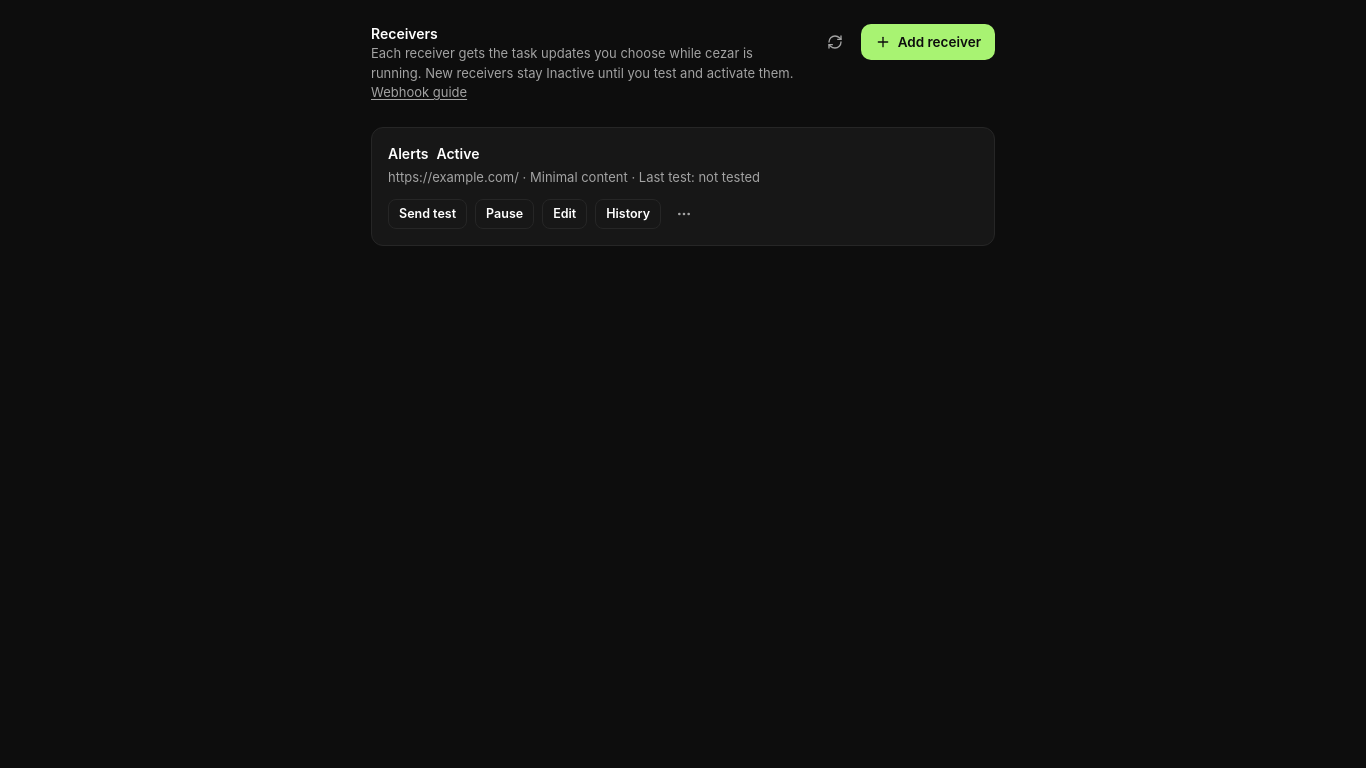
Test: test acceptance preserves a later Add draft
The width and height of the screenshot is (1366, 768).
Click the button "Send test" at (428, 214), box [388,199,467,229]
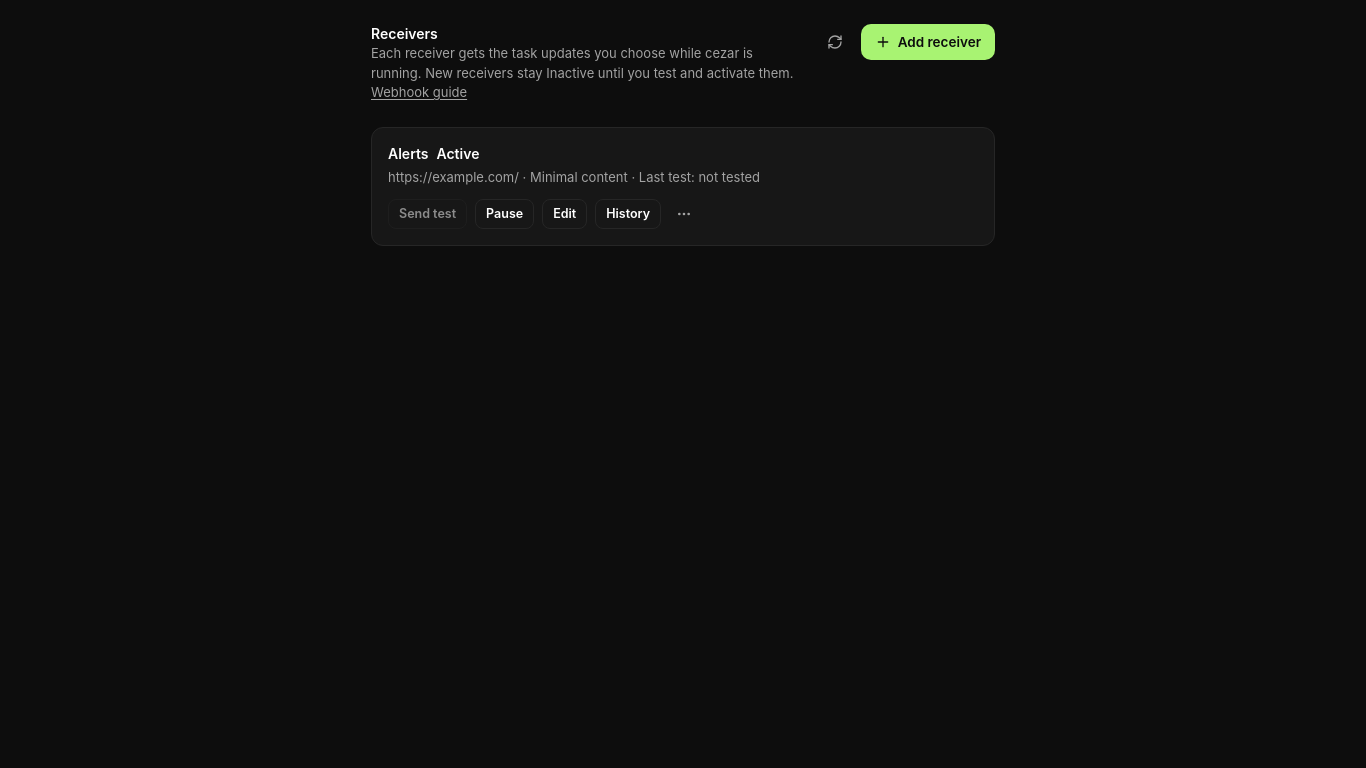
Click the button "Add receiver" at (928, 42), box [861,24,995,60]
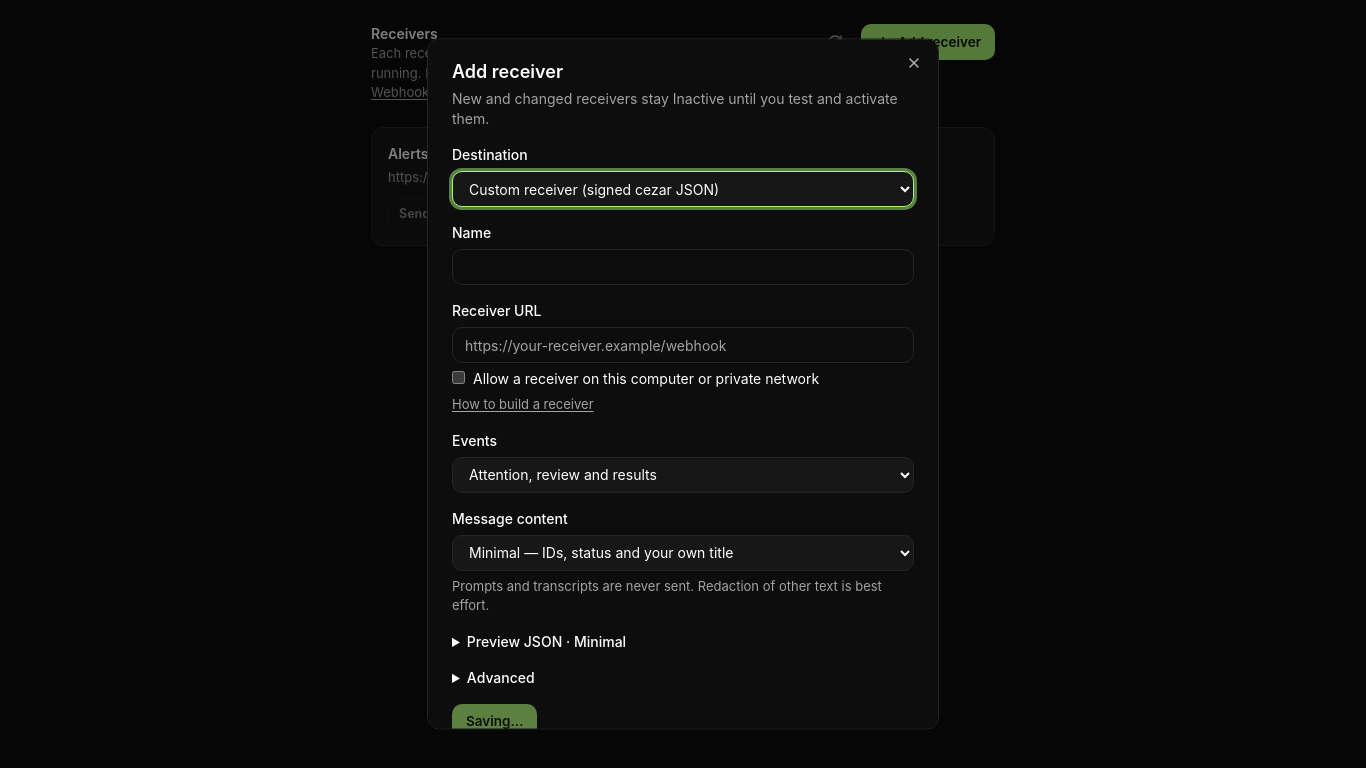
Type "Draft in progress" into the field labelled "Name" at (683, 267), box [452,249,914,285]
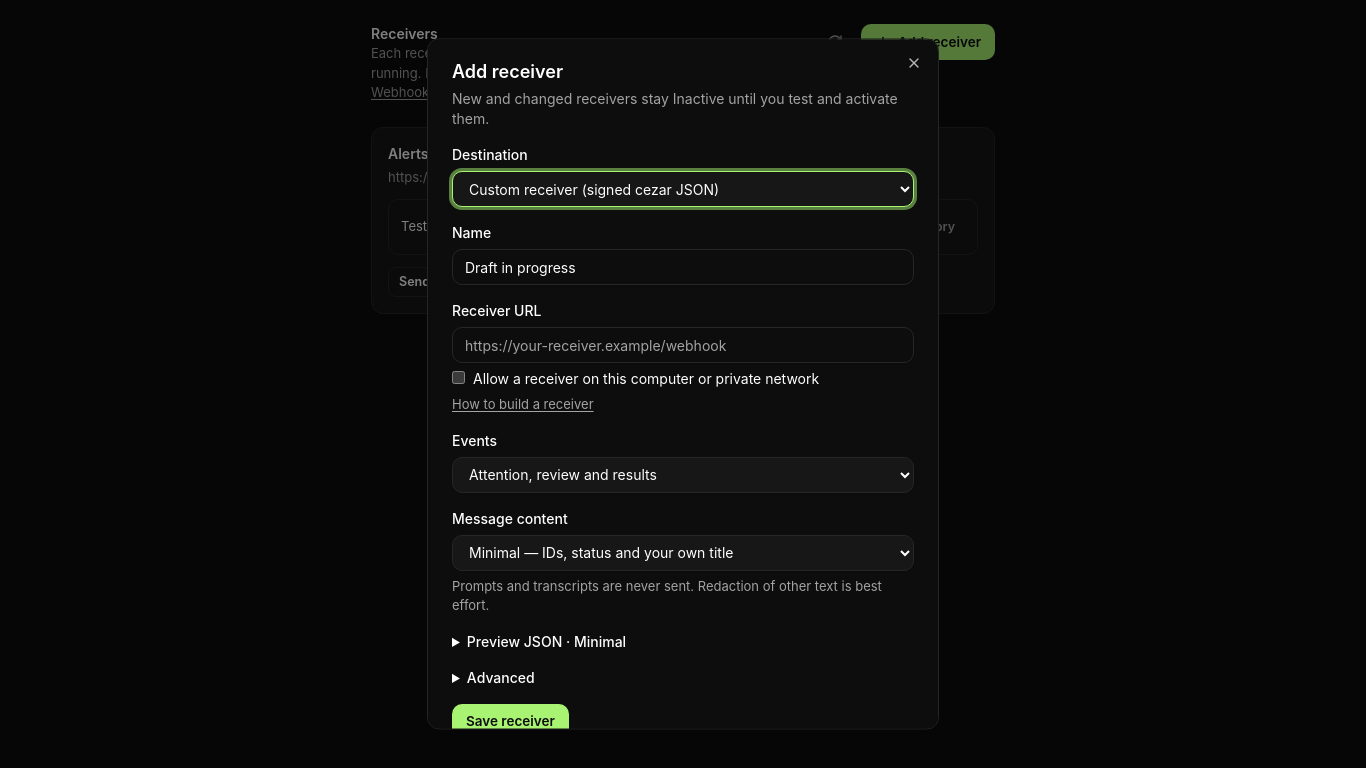
Now the button "Save receiver" is enabled, box [452,704,569,730]
